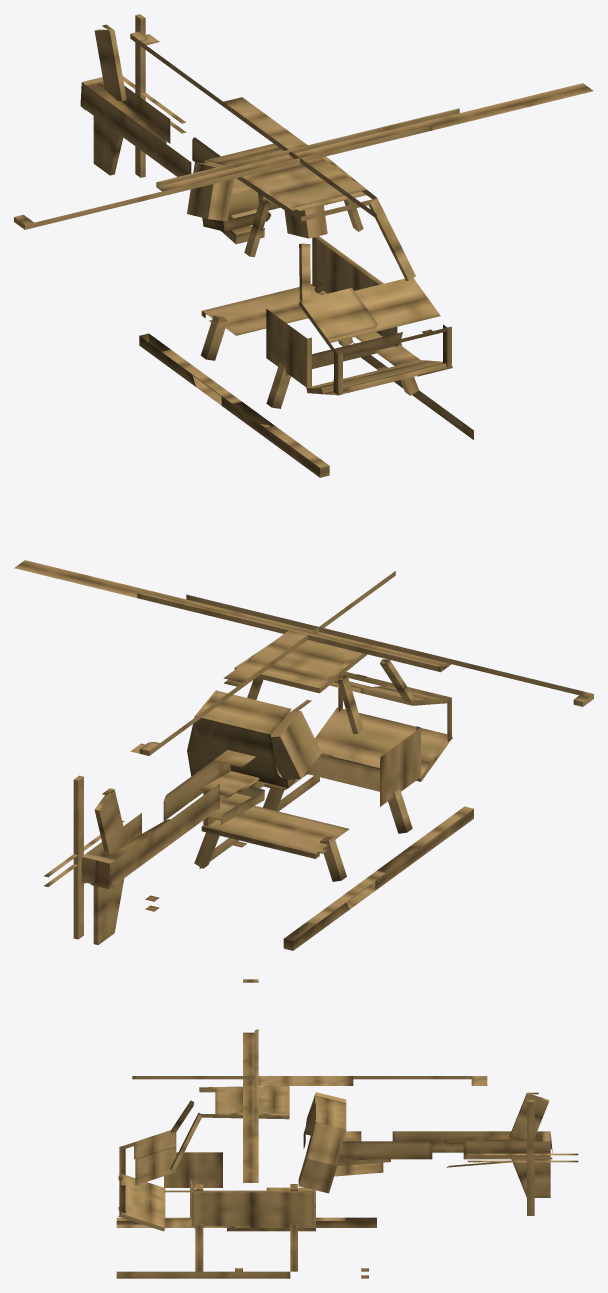
The model's file is noah_chopper.obj.
The picture shows the model from 3 angles, top to bottom: view 1: azimuth 30°, elevation 25°; view 2: azimuth 150°, elevation 25°; view 3: azimuth 270°, elevation 25°; orthographic projection. The views are drawn at different scales.
Parts seen in each view (by area): view 1: cube49, cube2, cube26, cube8, cube40, cube, cube48, cube4, cube5, cube15, cube1, cube11 (+13 smaller); view 2: cube49, cube26, cube15, cube1, cube, cube40, cube48, cube8, cube27, cube11, cube5, cube25 (+10 smaller); view 3: cube26, cube4, cube49, cube48, cube2, cube1, cube5, cube8, cube39, cube27, cube13, cube21 (+10 smaller).
Boxes of the visible parts, bbox=[...] form: cube49: bbox=[14, 83, 593, 229]; cube2: bbox=[299, 278, 447, 356]; cube26: bbox=[81, 77, 263, 217]; cube8: bbox=[246, 157, 377, 221]; cube40: bbox=[139, 333, 329, 477]; cube: bbox=[201, 284, 420, 366]; cube48: bbox=[130, 31, 376, 218]; cube4: bbox=[312, 236, 397, 346]; cube5: bbox=[266, 309, 311, 387]; cube15: bbox=[202, 143, 283, 231]; cube1: bbox=[306, 360, 446, 395]; cube11: bbox=[187, 162, 233, 221]; cube49: bbox=[14, 560, 593, 706]; cube26: bbox=[81, 750, 259, 888]; cube15: bbox=[195, 690, 295, 788]; cube1: bbox=[315, 707, 451, 781]; cube: bbox=[201, 753, 349, 858]; cube40: bbox=[283, 806, 473, 950]; cube48: bbox=[130, 571, 395, 755]; cube8: bbox=[256, 640, 361, 692]; cube27: bbox=[81, 771, 264, 889]; cube11: bbox=[271, 711, 321, 779]; cube5: bbox=[380, 726, 420, 806]; cube25: bbox=[73, 775, 83, 939]; cube26: bbox=[339, 1131, 550, 1159]; cube4: bbox=[164, 1190, 313, 1227]; cube49: bbox=[243, 979, 258, 1182]; cube48: bbox=[132, 1076, 487, 1085]; cube2: bbox=[119, 1130, 176, 1189]; cube1: bbox=[119, 1173, 165, 1231]; cube5: bbox=[164, 1152, 222, 1187]; cube8: bbox=[204, 1087, 289, 1114]; cube39: bbox=[116, 1268, 368, 1278]; cube27: bbox=[334, 1132, 552, 1176]; cube13: bbox=[306, 1120, 346, 1165]; cube21: bbox=[298, 1153, 336, 1193].
Size of the model in its own units: 7.5 by 3.02 by 9.19.
